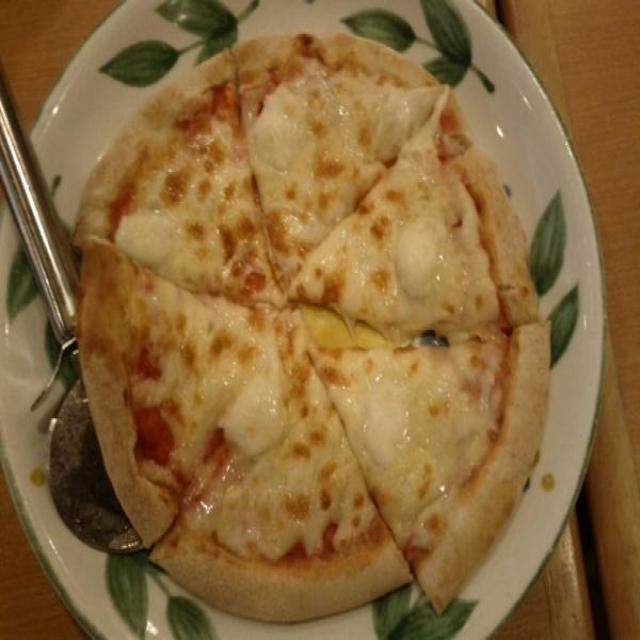Pizza: (76, 30, 556, 609)
